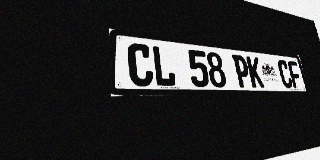5: (188, 49, 210, 87)
8: (206, 51, 227, 87)
C: (127, 42, 154, 87), (277, 59, 293, 88)
F: (287, 61, 303, 88)
K: (246, 56, 265, 88)
L: (151, 45, 177, 87)
P: (232, 54, 252, 88)
